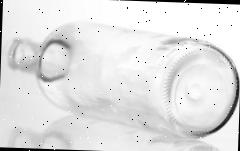glass: (2, 21, 240, 141)
